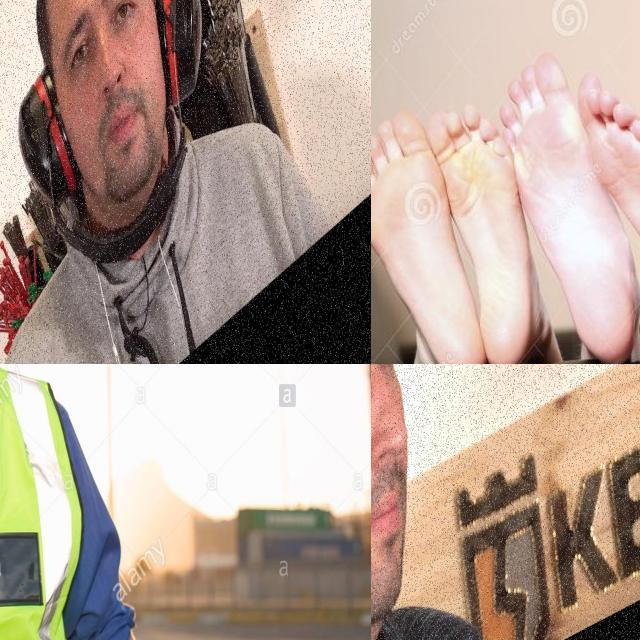Barefoots: (497, 28, 640, 364), (422, 85, 546, 364), (371, 80, 484, 364), (580, 76, 640, 282)
Ear-protection: (14, 66, 82, 208), (148, 0, 206, 109)
No_Glasses: (58, 0, 150, 76)
person: (0, 0, 326, 364), (0, 364, 138, 640), (371, 364, 508, 640)
vest: (0, 373, 76, 640)
